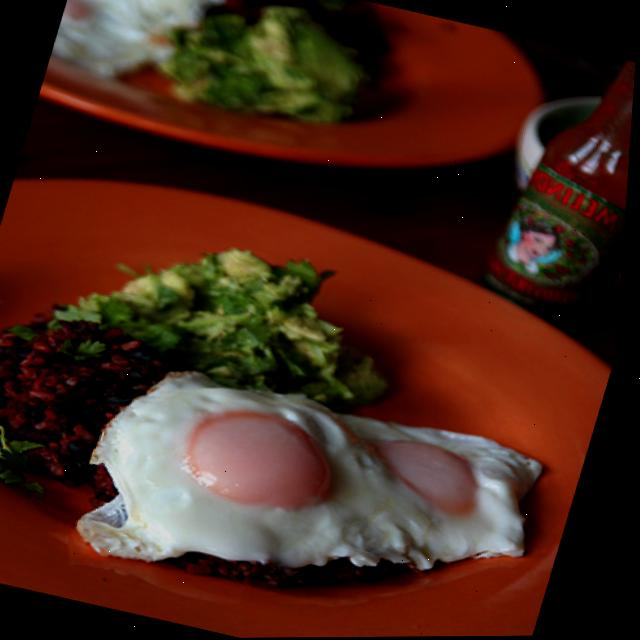鸡蛋料理: (55, 319, 591, 639)
